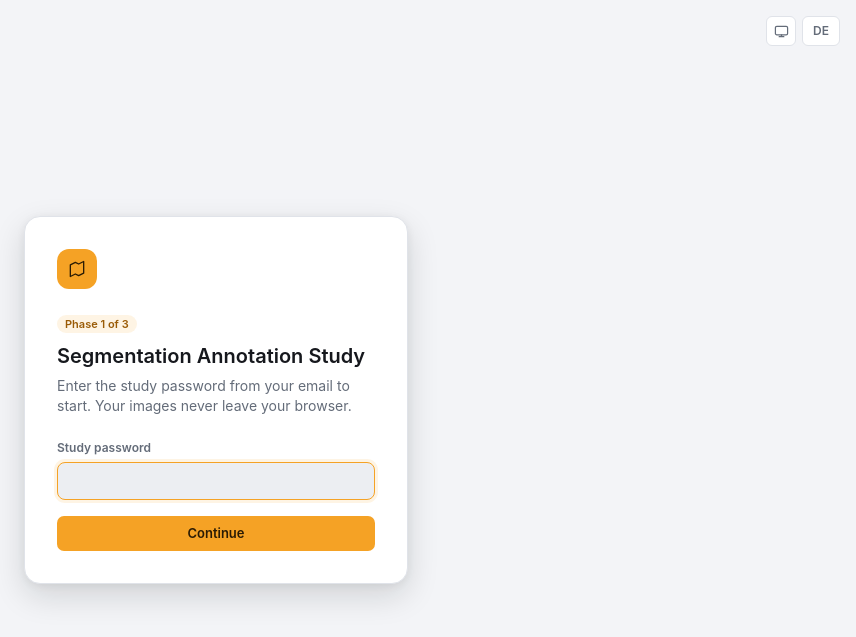
Test: phase passwords › phase1 does not accept the password of phase2
The width and height of the screenshot is (856, 637).
In the password field labelled "Study password": (216, 481) [57,462,375,500], type "CI-studie-2026-teil2"
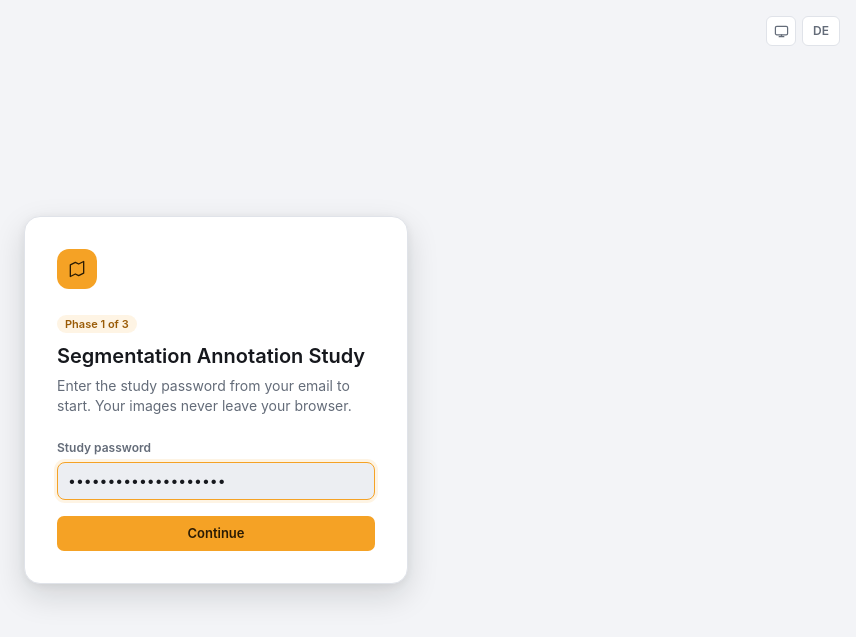
Click the button "Continue": click(216, 533) [57,516,375,551]
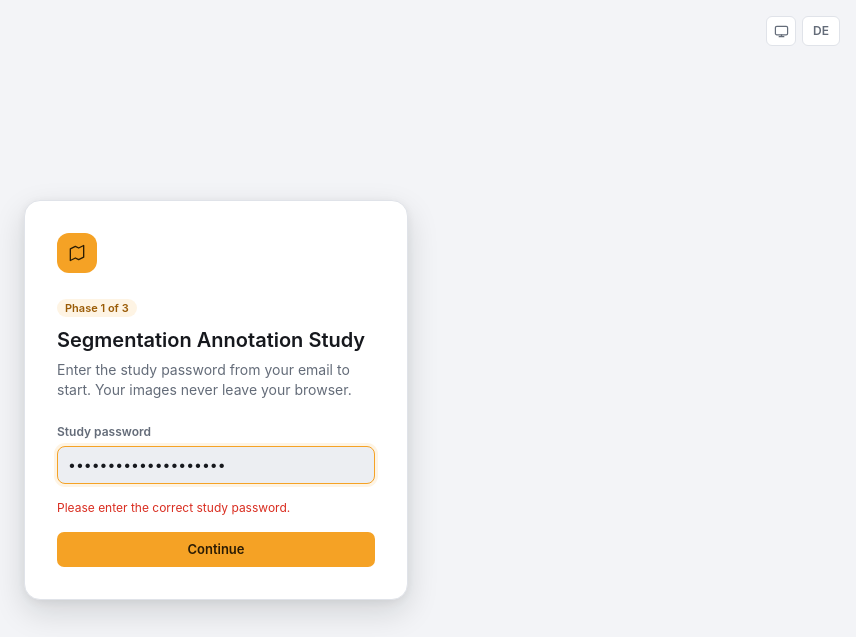
Check: the message "Please enter the correct study password." is shown, box [57,500,290,515]
